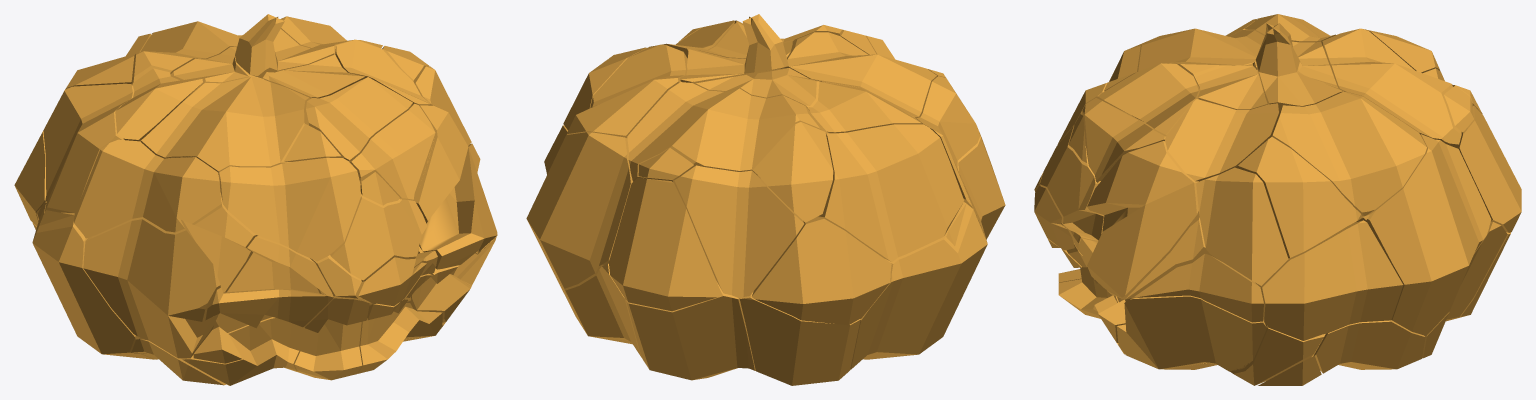
File: pumpkin-carved-lit-a broken.fbx
3 views of the same model, side by side, from view 1: azimuth 30°, elevation 25°; view 2: azimuth 150°, elevation 25°; view 3: azimuth 270°, elevation 25° (orthographic).
Visible parts, largest first — view 1: pumpkin-carved-lit-a_cell.045, pumpkin-carved-lit-a_cell.028, pumpkin-carved-lit-a_cell.032, pumpkin-carved-lit-a_cell.057, pumpkin-carved-lit-a_cell.001, pumpkin-carved-lit-a_cell.072, pumpkin-carved-lit-a_cell.051, pumpkin-carved-lit-a_cell.053, pumpkin-carved-lit-a_cell.078, pumpkin-carved-lit-a_cell.035, pumpkin-carved-lit-a_cell.063, pumpkin-carved-lit-a_cell.080 (+20 smaller); view 2: pumpkin-carved-lit-a_cell.051, pumpkin-carved-lit-a_cell.026, pumpkin-carved-lit-a_cell.044, pumpkin-carved-lit-a_cell.053, pumpkin-carved-lit-a_cell.019, pumpkin-carved-lit-a_cell.022, pumpkin-carved-lit-a_cell.054, pumpkin-carved-lit-a_cell.024, pumpkin-carved-lit-a_cell.068, pumpkin-carved-lit-a_cell.028, pumpkin-carved-lit-a_cell.056, pumpkin-carved-lit-a_cell.062 (+12 smaller); view 3: pumpkin-carved-lit-a_cell.026, pumpkin-carved-lit-a_cell.072, pumpkin-carved-lit-a_cell.030, pumpkin-carved-lit-a_cell.056, pumpkin-carved-lit-a_cell.070, pumpkin-carved-lit-a_cell.044, pumpkin-carved-lit-a_cell.081, pumpkin-carved-lit-a_cell.029, pumpkin-carved-lit-a_cell.002, pumpkin-carved-lit-a_cell.077, pumpkin-carved-lit-a_cell.003, pumpkin-carved-lit-a_cell.035 (+19 smaller).
Boxes of the visible parts, x1=… form: pumpkin-carved-lit-a_cell.045: x1=83, y1=193, x2=257, y2=358; pumpkin-carved-lit-a_cell.028: x1=140, y1=76, x2=309, y2=191; pumpkin-carved-lit-a_cell.032: x1=219, y1=157, x2=361, y2=261; pumpkin-carved-lit-a_cell.057: x1=74, y1=139, x2=221, y2=238; pumpkin-carved-lit-a_cell.001: x1=193, y1=236, x2=333, y2=363; pumpkin-carved-lit-a_cell.072: x1=407, y1=105, x2=497, y2=269; pumpkin-carved-lit-a_cell.051: x1=43, y1=83, x2=144, y2=212; pumpkin-carved-lit-a_cell.053: x1=32, y1=201, x2=154, y2=359; pumpkin-carved-lit-a_cell.078: x1=330, y1=193, x2=437, y2=280; pumpkin-carved-lit-a_cell.035: x1=306, y1=77, x2=412, y2=160; pumpkin-carved-lit-a_cell.063: x1=348, y1=103, x2=435, y2=199; pumpkin-carved-lit-a_cell.080: x1=294, y1=298, x2=369, y2=380; pumpkin-carved-lit-a_cell.051: x1=816, y1=124, x2=964, y2=261; pumpkin-carved-lit-a_cell.026: x1=526, y1=132, x2=632, y2=298; pumpkin-carved-lit-a_cell.044: x1=627, y1=82, x2=828, y2=182; pumpkin-carved-lit-a_cell.053: x1=850, y1=202, x2=987, y2=369; pumpkin-carved-lit-a_cell.019: x1=673, y1=165, x2=804, y2=297; pumpkin-carved-lit-a_cell.022: x1=608, y1=178, x2=721, y2=311; pumpkin-carved-lit-a_cell.054: x1=751, y1=217, x2=891, y2=325; pumpkin-carved-lit-a_cell.024: x1=626, y1=281, x2=755, y2=380; pumpkin-carved-lit-a_cell.068: x1=739, y1=291, x2=860, y2=385; pumpkin-carved-lit-a_cell.028: x1=776, y1=32, x2=936, y2=118; pumpkin-carved-lit-a_cell.056: x1=567, y1=44, x2=691, y2=137; pumpkin-carved-lit-a_cell.062: x1=753, y1=122, x2=833, y2=222; pumpkin-carved-lit-a_cell.026: x1=1355, y1=134, x2=1491, y2=335; pumpkin-carved-lit-a_cell.072: x1=1078, y1=141, x2=1198, y2=297; pumpkin-carved-lit-a_cell.030: x1=1255, y1=220, x2=1403, y2=340; pumpkin-carved-lit-a_cell.056: x1=1268, y1=91, x2=1426, y2=216; pumpkin-carved-lit-a_cell.070: x1=1116, y1=295, x2=1266, y2=371; pumpkin-carved-lit-a_cell.044: x1=1322, y1=28, x2=1461, y2=147; pumpkin-carved-lit-a_cell.081: x1=1196, y1=167, x2=1288, y2=285; pumpkin-carved-lit-a_cell.029: x1=1236, y1=137, x2=1362, y2=258; pumpkin-carved-lit-a_cell.002: x1=1165, y1=99, x2=1278, y2=181; pumpkin-carved-lit-a_cell.077: x1=1313, y1=320, x2=1425, y2=373; pumpkin-carved-lit-a_cell.003: x1=1133, y1=254, x2=1263, y2=322; pumpkin-carved-lit-a_cell.035: x1=1098, y1=63, x2=1200, y2=135.
Bounding box in the file's own units: 61.49 × 44.25 × 61.49.
